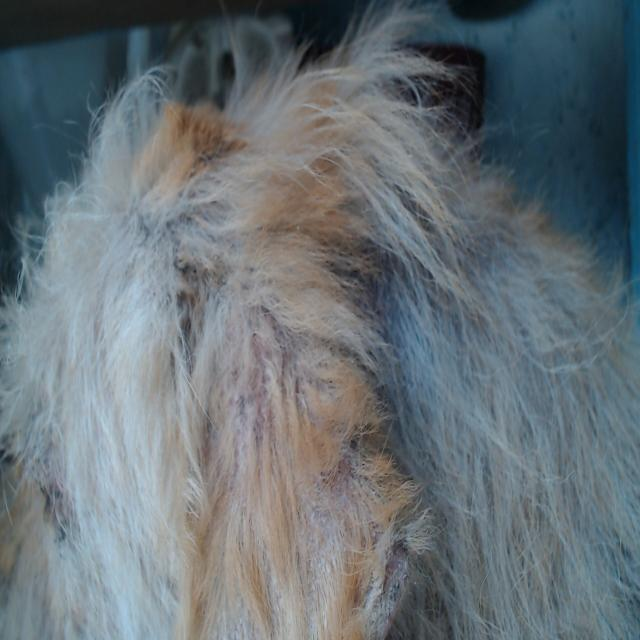demodicosis: (197, 361, 377, 619)
